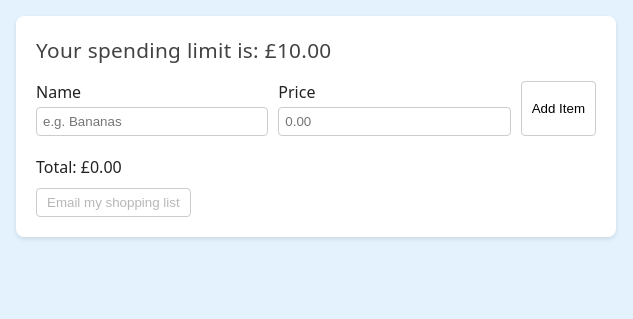
Test case: ShoppingList component › successfully adds item to shopping list
Type "Coffee" into the field labelled "Name" at {"x": 152, "y": 122}, box [36, 107, 268, 136]
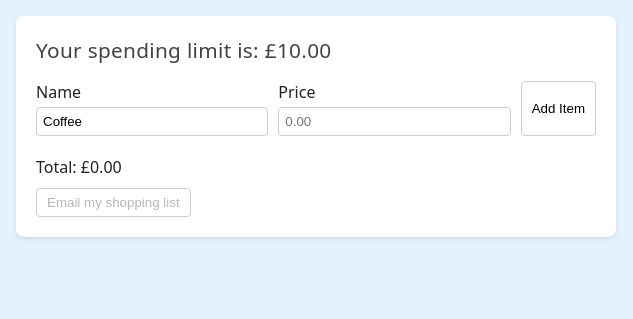
Type "2" into the number field labelled "Price" at {"x": 394, "y": 122}, box [278, 107, 511, 136]
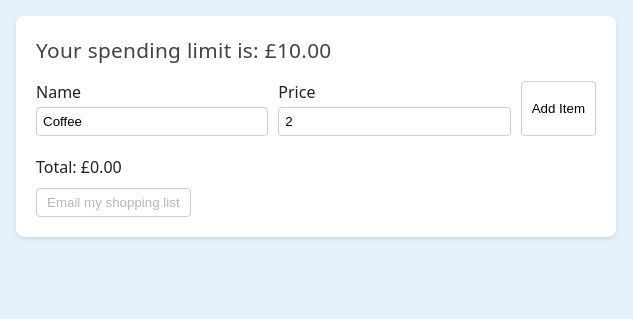
Click the button "Add Item" at {"x": 558, "y": 109}, box [521, 81, 596, 136]
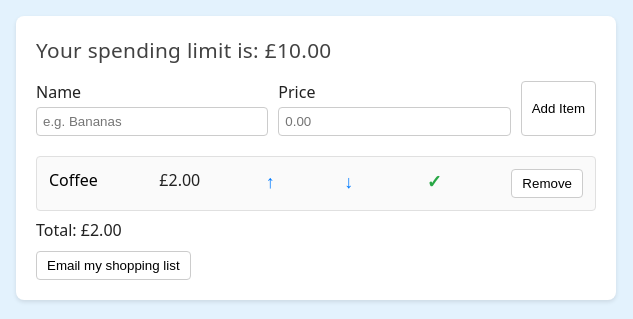
Result: the text "Coffee" is shown at [49, 169, 98, 198]
Result: the list item "£2.00" is shown at [36, 156, 596, 211]
